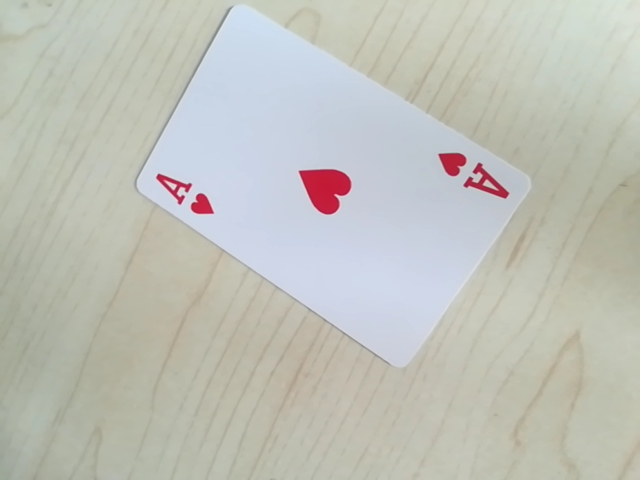hx a: (430, 144, 519, 207), (147, 167, 224, 222)
